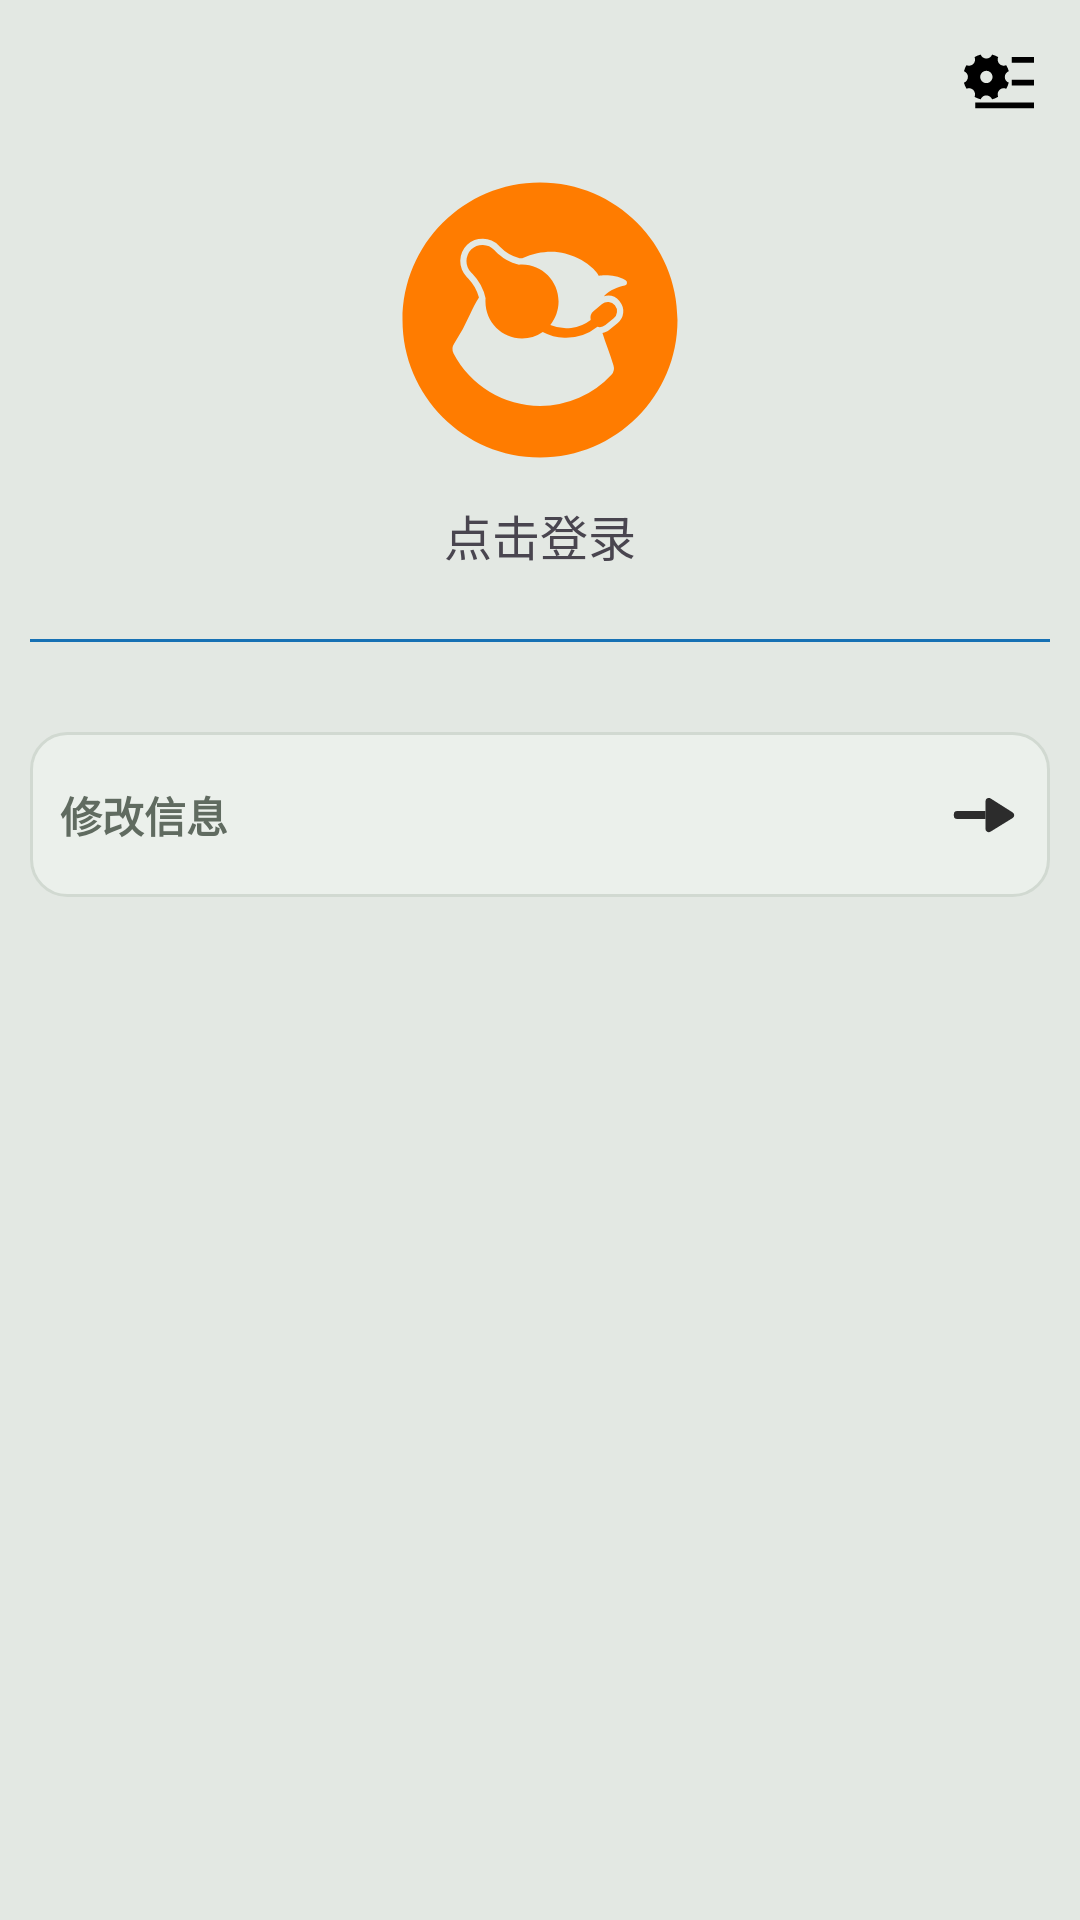

Point at icon controls on the screen. Image size 1080×1920, points as point (x, y).
arrow right: point (984, 815)
setting: point (999, 81)
